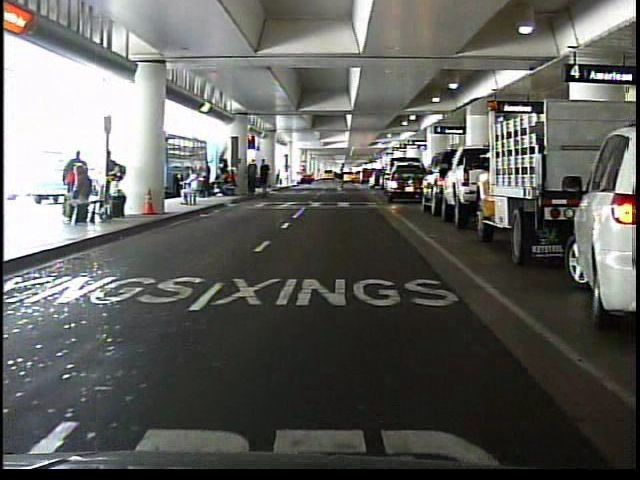person: (177, 170, 203, 209), (330, 161, 351, 194)
